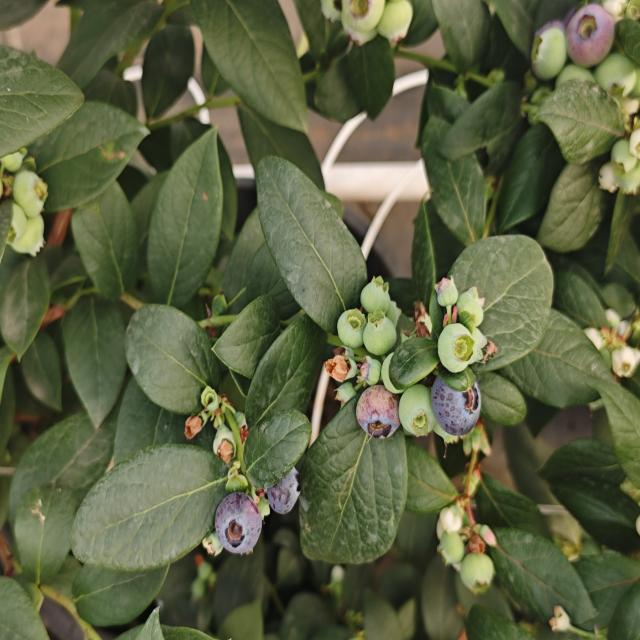ripe: (428, 373, 483, 441), (212, 489, 264, 558), (268, 466, 303, 521)
